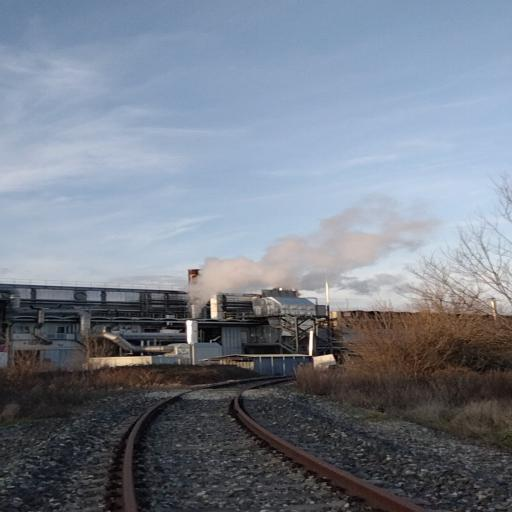leakage: (173, 195, 477, 325)
